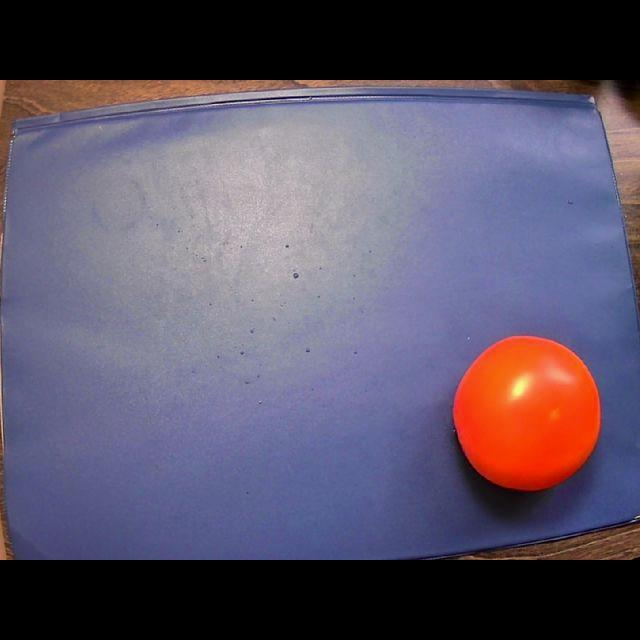tomate: (453, 336, 600, 491)
